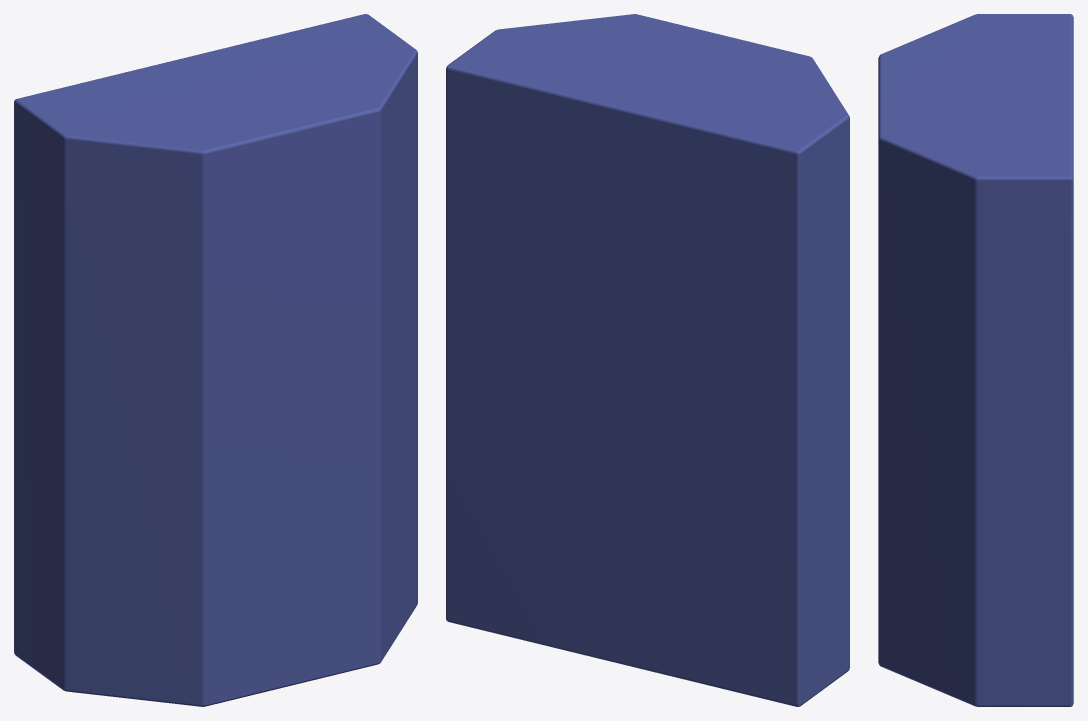
The model's file is SM_AngledCube_03.fbx.
3 renders of one model, left to right at view 1: azimuth 30°, elevation 25°; view 2: azimuth 150°, elevation 25°; view 3: azimuth 270°, elevation 25°, orthographic. The views are drawn at different scales.
Visible parts, largest first — view 1: SM_AngledCube_03; view 2: SM_AngledCube_03; view 3: SM_AngledCube_03.
Part boxes in pixels (<box>): SM_AngledCube_03: <box>14,14,417,706</box>; SM_AngledCube_03: <box>446,14,849,706</box>; SM_AngledCube_03: <box>878,14,1073,706</box>.
Bounding box in the file's own units: 400 × 600 × 200.
